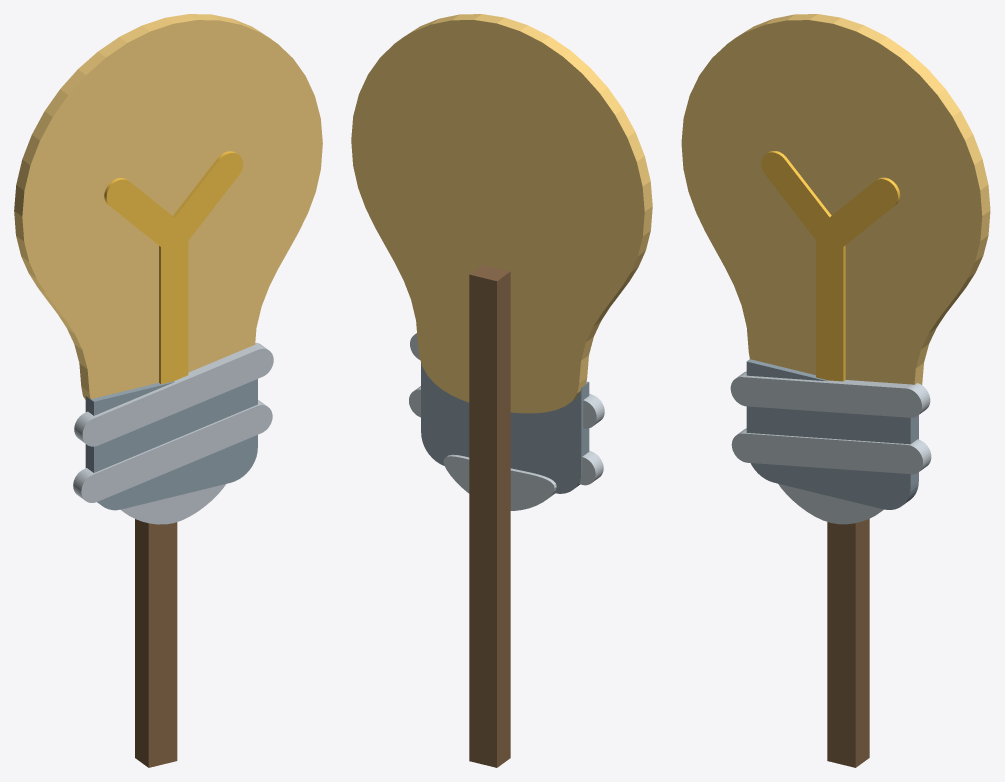
Rendered from ampoule.glb.
3 views of the same model, side by side, from view 1: azimuth 30°, elevation 25°; view 2: azimuth 150°, elevation 25°; view 3: azimuth 330°, elevation 25° (orthographic). The views are drawn at different scales.
Size of the model in its own units: 0.6311 by 1.5 by 0.105.
